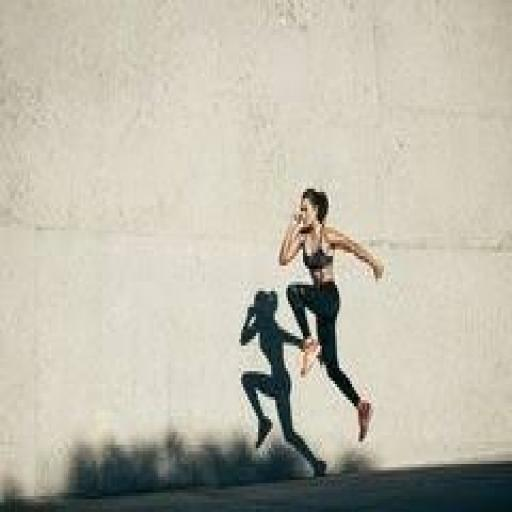running: (275, 182, 386, 448), (236, 285, 330, 480)
